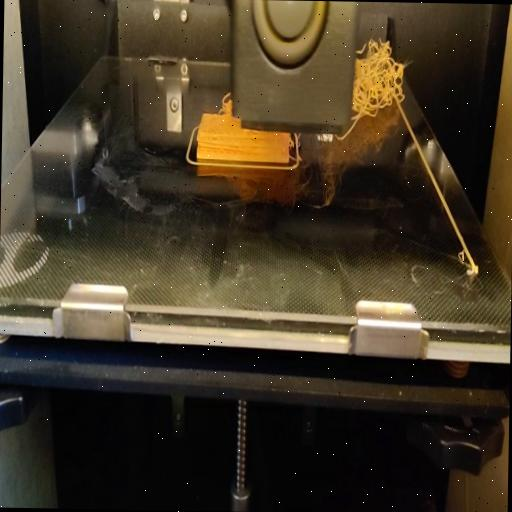spaghetti: (356, 36, 410, 122), (336, 122, 354, 148)
